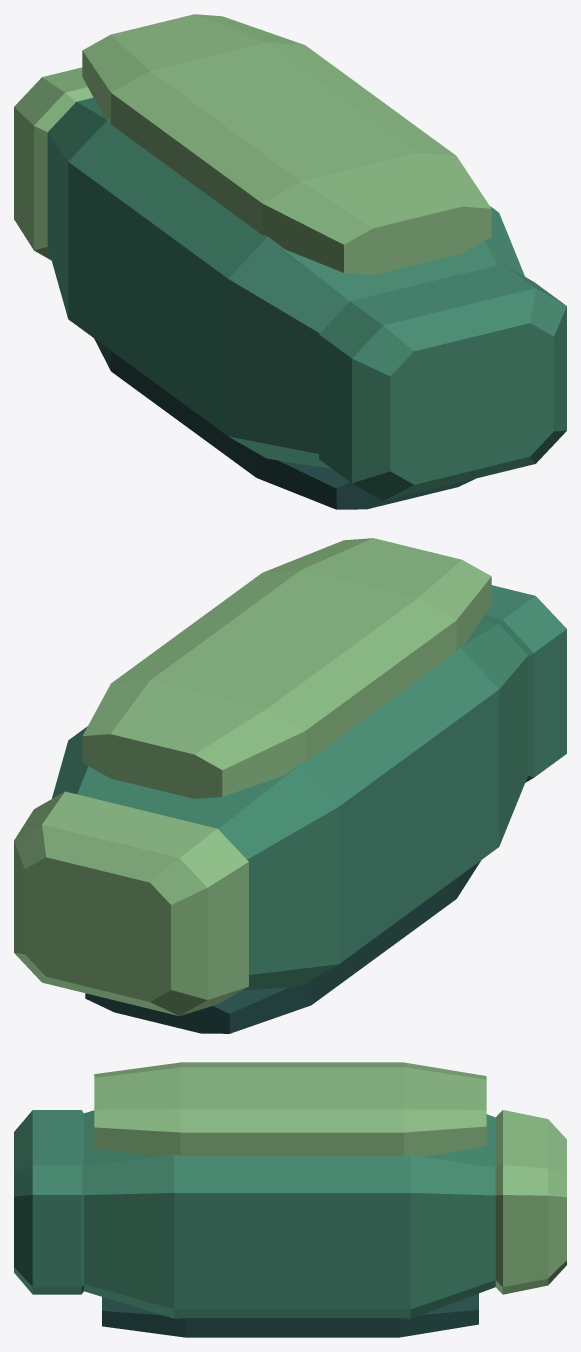
File: Cyanobacteria__LOD1.gltf
3 renders of one model, top to bottom at view 1: azimuth 30°, elevation 25°; view 2: azimuth 150°, elevation 25°; view 3: azimuth 270°, elevation 25°, orthographic. The views are drawn at different scales.
Parts seen in each view (by area): view 1: Root; view 2: Root; view 3: Root.
Part boxes in pixels (box(x1,y1,x2,y2)): Root: box(14, 14, 566, 509); Root: box(14, 538, 566, 1033); Root: box(14, 1062, 566, 1337).
Bounding box in the file's own units: 0.92 × 0.965 × 2.2.
Materials: 1 (1 with a texture image).
